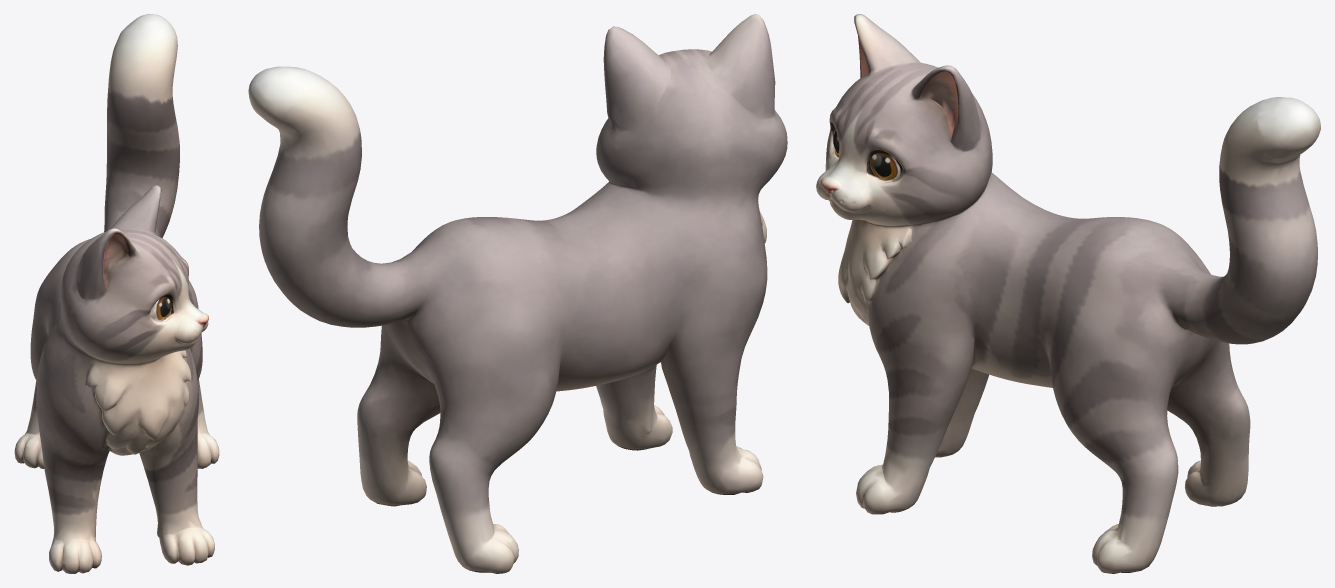
The model's file is pepper.fbx.
3 renders of one model, left to right at view 1: azimuth 30°, elevation 25°; view 2: azimuth 150°, elevation 25°; view 3: azimuth 270°, elevation 25°, orthographic. The views are drawn at different scales.
Visible parts, largest first — view 1: tripo_node_6206f271; view 2: tripo_node_6206f271; view 3: tripo_node_6206f271.
Part boxes in pixels (left/top/right/bottom): tripo_node_6206f271: left=14, top=14, right=219, bottom=573; tripo_node_6206f271: left=248, top=14, right=787, bottom=573; tripo_node_6206f271: left=816, top=14, right=1320, bottom=573.
Size of the model in its own units: 0.6994 by 0.9796 by 0.9323.
1 material, 1 textured.
